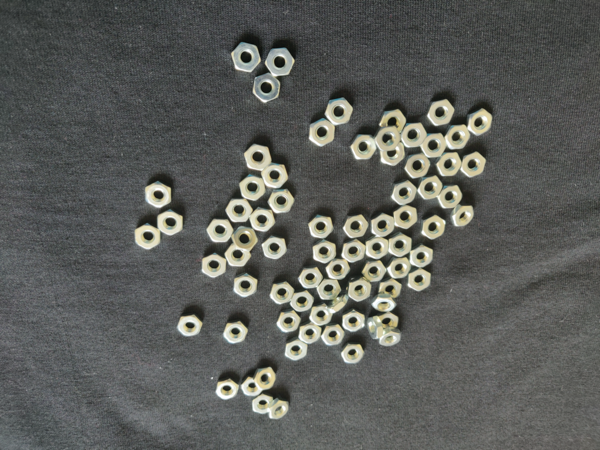nut: (231, 42, 261, 73), (266, 48, 295, 77), (253, 73, 280, 103), (427, 99, 455, 127), (325, 98, 353, 126), (261, 162, 289, 189), (244, 144, 272, 171), (379, 109, 407, 136), (309, 119, 335, 147), (145, 182, 171, 209), (232, 226, 259, 252), (239, 175, 266, 201), (404, 153, 431, 179), (460, 152, 487, 178), (420, 134, 448, 159), (350, 135, 378, 160), (135, 224, 161, 250), (157, 210, 183, 236), (250, 207, 276, 233), (268, 189, 295, 214), (468, 109, 493, 136), (381, 140, 406, 167), (401, 123, 428, 148), (374, 127, 402, 151), (420, 215, 446, 240), (445, 125, 471, 150), (390, 181, 417, 205), (225, 200, 253, 223), (202, 254, 227, 279), (312, 239, 337, 264), (308, 215, 334, 239), (343, 215, 369, 239), (436, 152, 462, 176), (225, 244, 252, 267), (234, 273, 258, 298), (270, 282, 295, 306), (262, 236, 287, 260), (418, 176, 443, 200), (438, 185, 463, 209), (298, 267, 324, 290), (410, 243, 433, 269), (176, 315, 203, 337), (207, 220, 234, 242), (348, 278, 372, 302), (342, 239, 366, 263), (366, 236, 390, 260), (371, 213, 395, 237), (394, 205, 418, 229), (285, 337, 308, 362), (389, 233, 412, 258), (450, 204, 475, 227), (361, 261, 387, 283), (277, 310, 301, 333), (408, 268, 431, 292), (224, 322, 249, 344), (388, 257, 411, 280), (215, 379, 239, 401), (321, 324, 345, 346), (309, 304, 333, 326), (343, 309, 365, 333), (291, 291, 315, 313), (326, 259, 351, 280), (254, 368, 276, 391), (298, 323, 322, 344), (342, 343, 366, 364), (317, 280, 342, 300), (378, 278, 402, 298), (372, 294, 397, 313), (252, 394, 274, 415), (269, 398, 289, 421), (379, 327, 402, 347), (242, 377, 263, 397), (328, 294, 349, 314), (378, 312, 399, 330), (368, 316, 383, 340)
